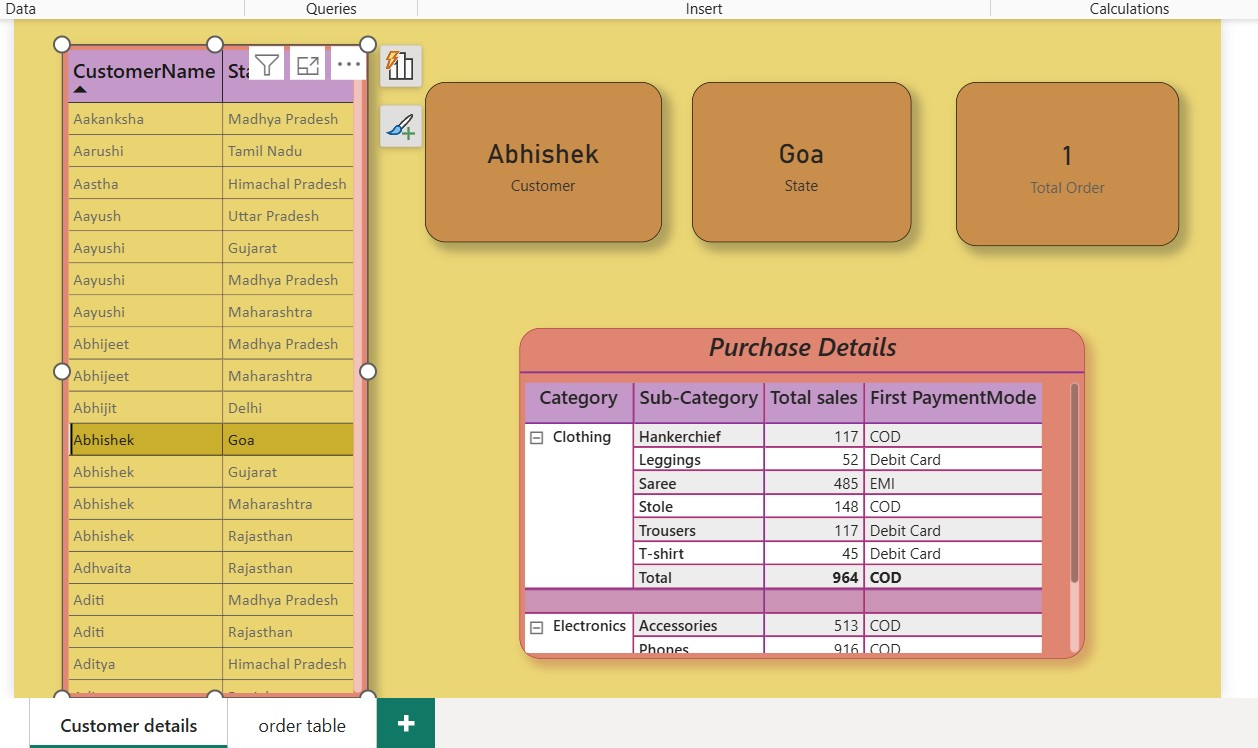

What the dashboard file says about the page in this screenshot:
{"tool":"powerbi","page":{"name":"Customer details","canvas":[1280,720],"ordinal":1},"visuals":[{"type":"tableEx","fields":{"Values":["Orders.CustomerName","Orders.State"]},"box":[50.9,27,324.5,693.5],"z":0},{"type":"card","fields":{"Values":["Details.Selected Customer"]},"box":[435.4,66.8,251.1,170.1],"z":8},{"type":"card","fields":{"Values":["Details.Selected State"]},"box":[719,66.8,232.9,170.1],"z":9},{"type":"pivotTable","title":"Purchase Details","fields":{"Rows":["Details.Category","Details.Sub-Category"],"Values":["Measure table.Total sales","Details.PaymentMode"]},"box":[536.7,328.1,599.5,350.4],"z":11},{"type":"card","fields":{"Values":["Measure table.Total Order"]},"box":[998.5,66.8,237,174.2],"z":12}]}

Visuals, with their boxes on the page's 1280x720 design canvas (x1, y1, x2, y2). These are canvas units, not pixel positions in the 1258x748 screenshot, which may show the page scaled, cropped or inside an application window:
tableEx - Orders.CustomerName x Orders.State: (left=51, top=27, right=375, bottom=720)
card - Details.Selected Customer: (left=435, top=67, right=686, bottom=237)
card - Details.Selected State: (left=719, top=67, right=952, bottom=237)
"Purchase Details" pivotTable: (left=537, top=328, right=1136, bottom=678)
card - Measure table.Total Order: (left=998, top=67, right=1236, bottom=241)
